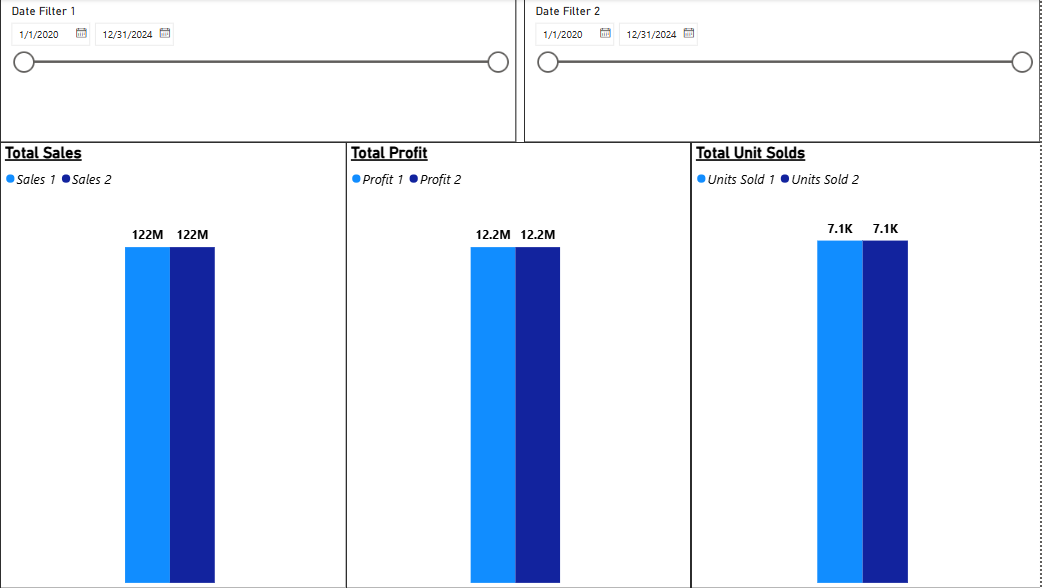

This screenshot's page, from the dashboard's own definition file:
{"tool":"powerbi","page":{"name":"Comparison Sales/Profit/Quantity","canvas":[1280,720],"ordinal":2},"visuals":[{"type":"slicer","title":"Date Filter 1","fields":{"Values":["Date Table 1.Date"]},"box":[9.6,0,630.4,174.8],"z":0},{"type":"slicer","title":"Date Filter 1","fields":{"Values":["Date Table 2.Date"]},"box":[649.6,0,630.4,174.8],"z":1000},{"type":"clusteredColumnChart","title":"Total Sales","fields":{"Y":["Sum(Fact Table.Net Sale)","Date Table 1.Sum of net sales"]},"box":[9.6,174.8,422.5,545],"z":2000},{"type":"clusteredColumnChart","title":"Total Profit","fields":{"Y":["Sum(Fact Table.Profit)","Measures Table.Total Profit"]},"box":[432.2,174.8,421.2,545],"z":3000},{"type":"clusteredColumnChart","title":"Total Unit Solds","fields":{"Y":["Sum(Fact Table.Units Sold)","Measures Table.Quantity Sold"]},"box":[853.3,174.8,426.7,545],"z":4000}]}

Visuals, with their boxes in screenshot pixels (x1, y1, x2, y2), scaled from the page's 1280x720 canvas onto the 1042x588 screenshot:
"Date Filter 1" slicer: <region>8, 0, 521, 143</region>
"Date Filter 1" slicer: <region>529, 0, 1041, 143</region>
"Total Sales" clusteredColumnChart: <region>8, 143, 352, 587</region>
"Total Profit" clusteredColumnChart: <region>352, 143, 695, 587</region>
"Total Unit Solds" clusteredColumnChart: <region>695, 143, 1041, 587</region>
